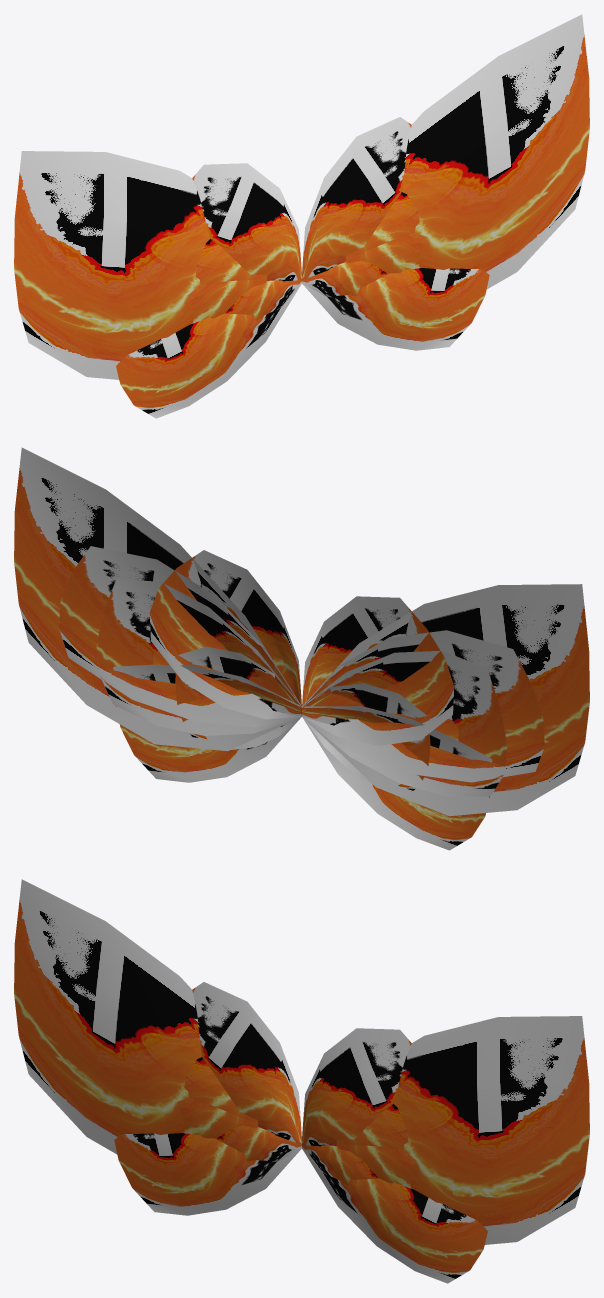
The model's file is fx_wing_b.FBX.
The picture shows the model from 3 angles, top to bottom: view 1: azimuth 30°, elevation 25°; view 2: azimuth 150°, elevation 25°; view 3: azimuth 330°, elevation 25°; orthographic projection.
Visible parts, largest first — view 1: Plane010, Plane05, Plane06, Plane011, Plane03, Plane008, Plane04, Plane01, Plane012, Plane009, Plane02, Plane007; view 2: Plane010, Plane05, Plane007, Plane02, Plane03, Plane008, Plane012, Plane01, Plane011, Plane06, Plane04, Plane009; view 3: Plane05, Plane010, Plane011, Plane06, Plane008, Plane03, Plane009, Plane012, Plane01, Plane04, Plane007, Plane02.
Part boxes in pixels (left/top/right/bottom): Plane010: left=14, top=151, right=210, bottom=379; Plane05: left=402, top=14, right=589, bottom=289; Plane06: left=302, top=268, right=489, bottom=350; Plane011: left=116, top=285, right=300, bottom=418; Plane03: left=302, top=117, right=411, bottom=280; Plane008: left=192, top=163, right=301, bottom=281; Plane04: left=302, top=260, right=387, bottom=296; Plane01: left=346, top=233, right=426, bottom=273; Plane012: left=188, top=279, right=265, bottom=323; Plane009: left=225, top=280, right=301, bottom=320; Plane02: left=346, top=192, right=419, bottom=261; Plane007: left=195, top=239, right=266, bottom=284; Plane010: left=302, top=584, right=589, bottom=816; Plane05: left=14, top=447, right=301, bottom=751; Plane007: left=302, top=630, right=544, bottom=782; Plane02: left=59, top=546, right=301, bottom=727; Plane03: left=149, top=550, right=301, bottom=719; Plane008: left=302, top=596, right=454, bottom=745; Plane012: left=303, top=650, right=507, bottom=796; Plane01: left=96, top=578, right=300, bottom=735; Plane011: left=302, top=706, right=492, bottom=850; Plane06: left=113, top=664, right=301, bottom=782; Plane04: left=175, top=646, right=301, bottom=749; Plane009: left=303, top=683, right=430, bottom=790; Plane05: left=393, top=1016, right=589, bottom=1244; Plane010: left=14, top=879, right=201, bottom=1154; Plane011: left=114, top=1133, right=301, bottom=1215; Plane06: left=303, top=1150, right=487, bottom=1283; Plane008: left=192, top=982, right=301, bottom=1145; Plane03: left=302, top=1028, right=411, bottom=1146; Plane009: left=216, top=1125, right=301, bottom=1161; Plane012: left=177, top=1098, right=257, bottom=1138; Plane01: left=338, top=1144, right=415, bottom=1188; Plane04: left=302, top=1145, right=378, bottom=1185; Plane007: left=184, top=1057, right=257, bottom=1126; Plane02: left=337, top=1104, right=408, bottom=1149.
Size of the model in its own units: 1857 by 923 by 34.84.
